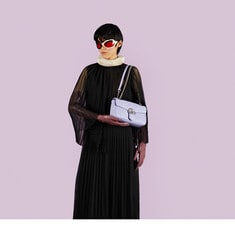Gucci: (107, 94, 153, 128)
